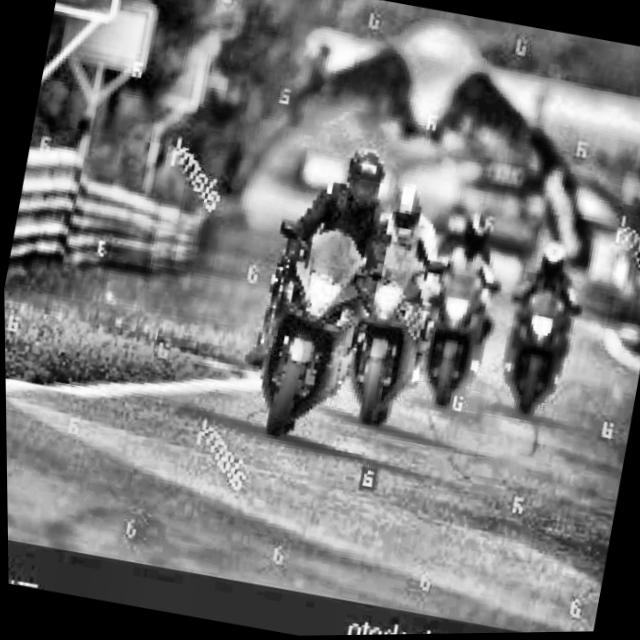motorcycle: (207, 200, 416, 454), (330, 239, 443, 443), (405, 254, 508, 418), (488, 271, 589, 424)
